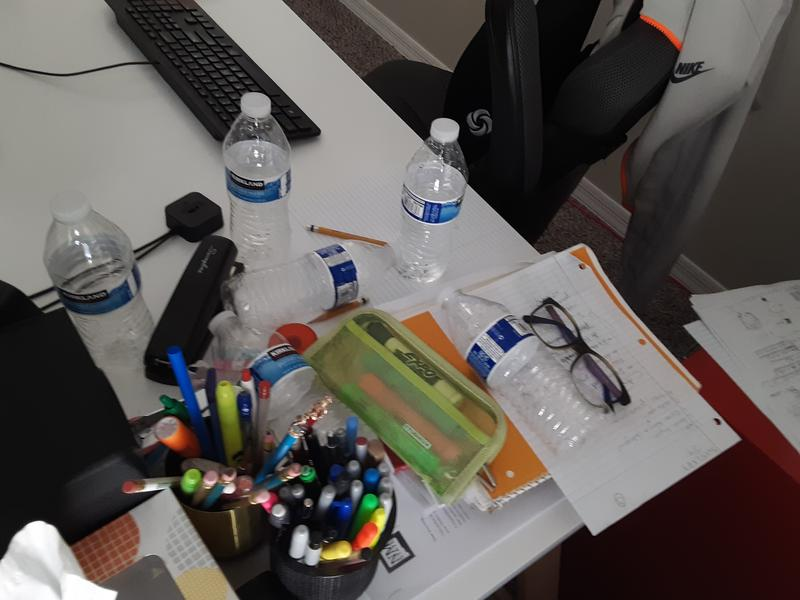glasses: (521, 295, 633, 416)
